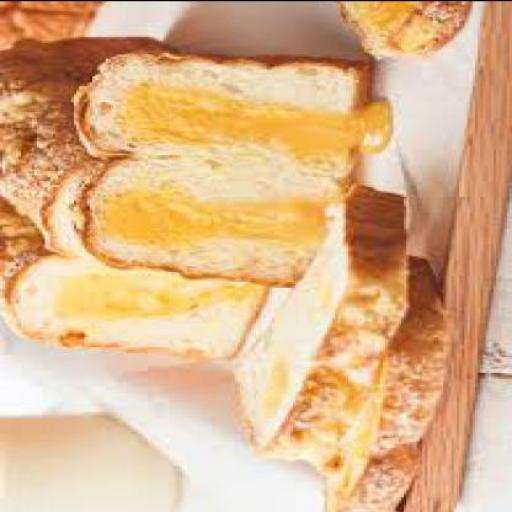biodegradable: (0, 37, 266, 362), (68, 56, 386, 290), (230, 186, 406, 463), (322, 255, 442, 511), (336, 2, 464, 57), (0, 2, 103, 59)
